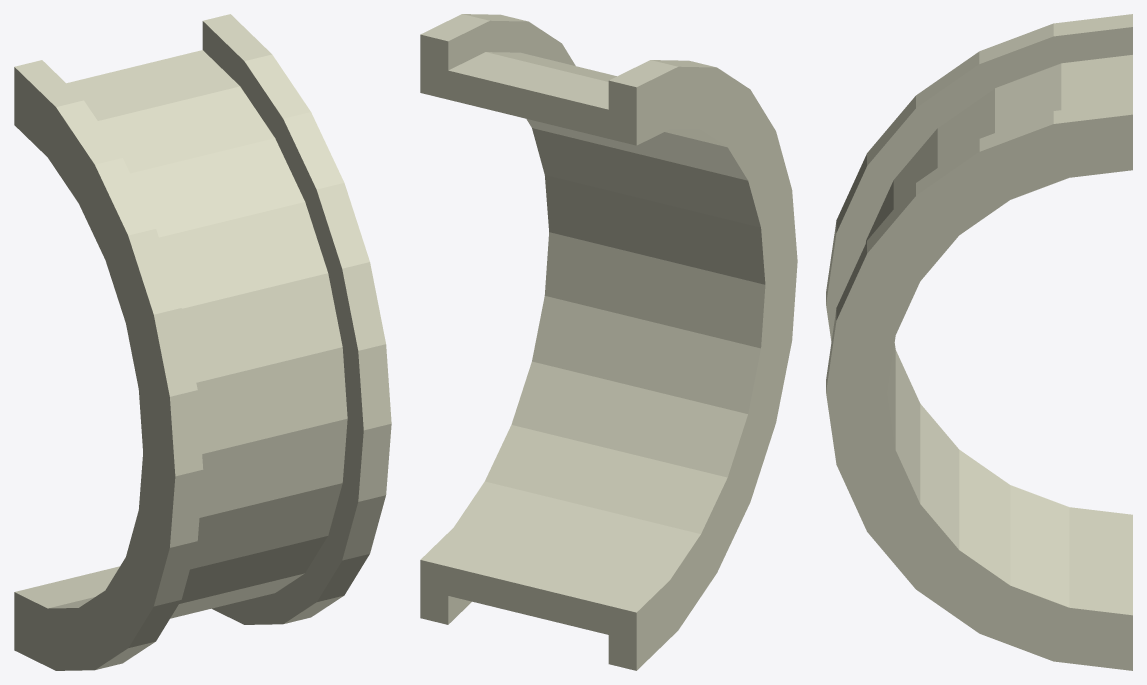
The model's file is section_225.obj.
3 renders of one model, left to right at view 1: azimuth 30°, elevation 25°; view 2: azimuth 150°, elevation 25°; view 3: azimuth 270°, elevation 25°, orthographic. The views are drawn at different scales.
Size of the model in its own units: 7.76 by 20 by 10.
